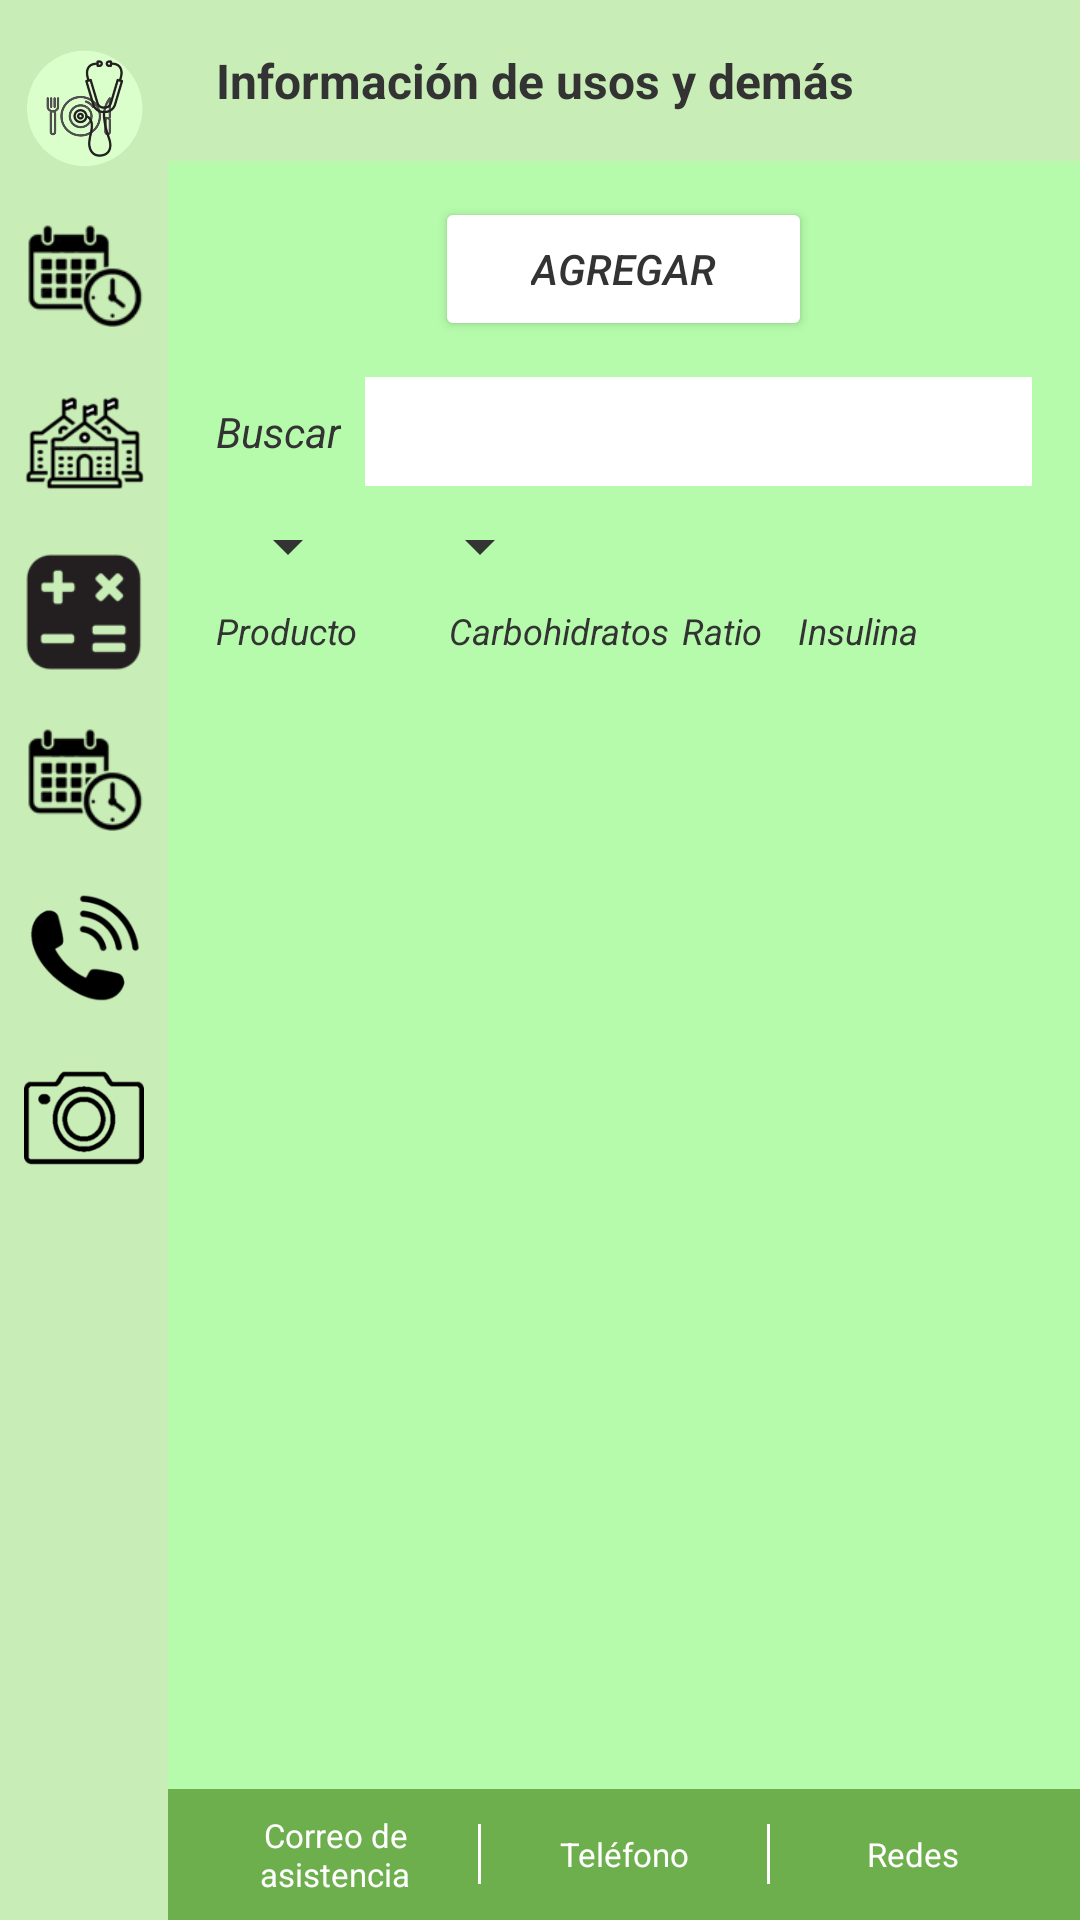

Icons on this 1080px×1920px Android screen, each with the point to tap as [x,y]:
Calculadora: [83,612]
Cámara: [84,1118]
Institución: [85,443]
Teléfono: [85,948]
